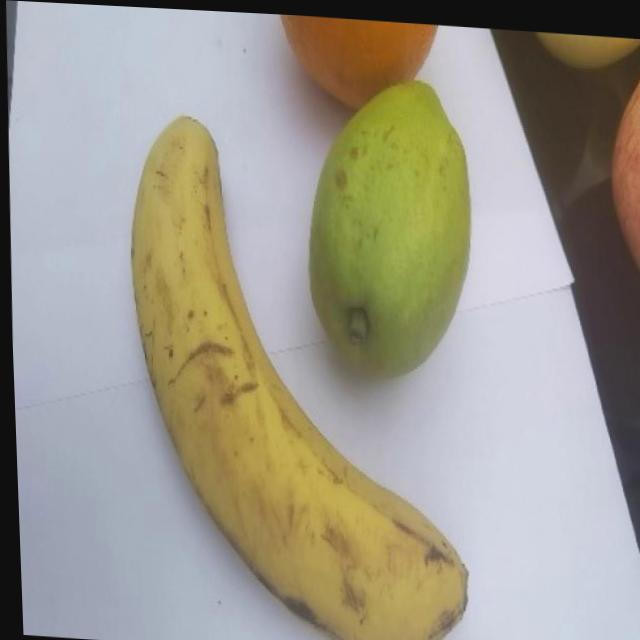Apple: (604, 60, 640, 283)
Banana: (117, 110, 476, 640)
Orange: (278, 11, 442, 112)
